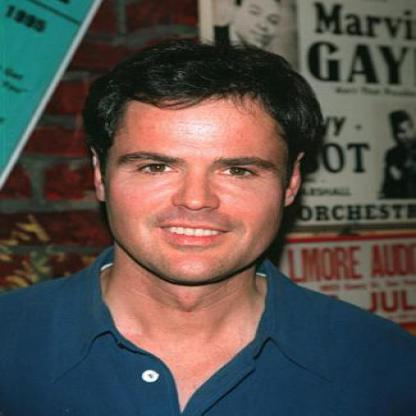face: (101, 54, 295, 284)
